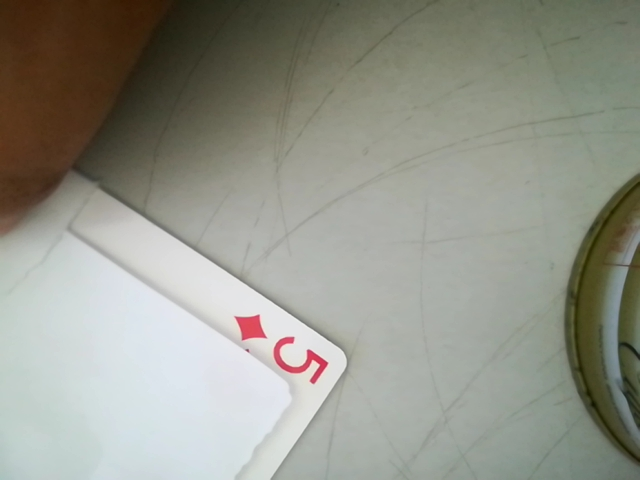fk 5: (229, 310, 337, 390)
